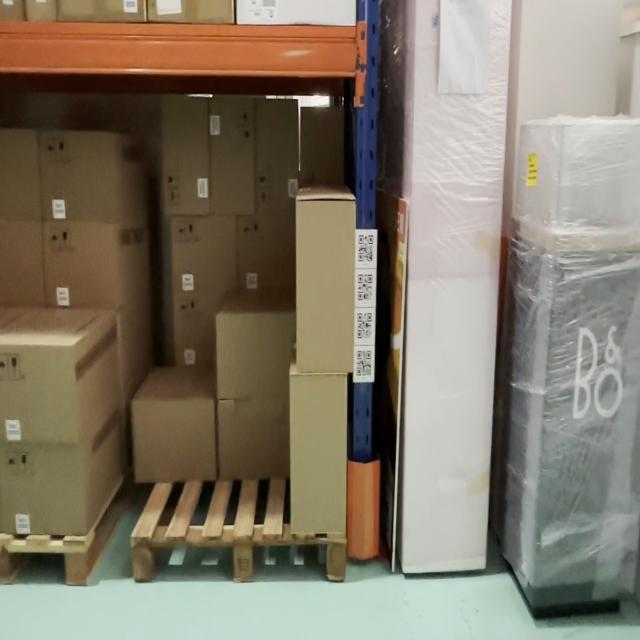box: (296, 197, 357, 369), (292, 372, 346, 541), (39, 136, 117, 227), (133, 401, 214, 478), (41, 226, 117, 302), (163, 95, 209, 215), (168, 219, 240, 292), (212, 101, 256, 217)
